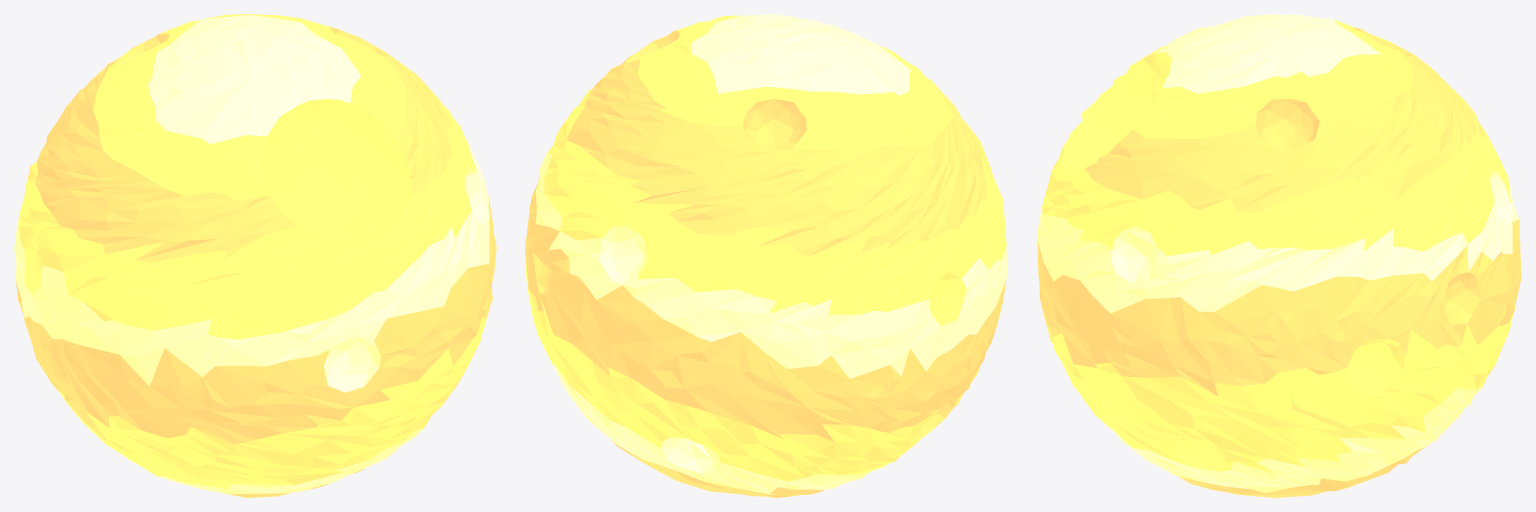
The model's file is sun.glb.
3 views of the same model, side by side, from view 1: azimuth 30°, elevation 25°; view 2: azimuth 150°, elevation 25°; view 3: azimuth 270°, elevation 25° (orthographic).
Parts seen in each view (by area): view 1: Planet_27; view 2: Planet_27; view 3: Planet_27.
Boxes of the visible parts, x1,y1,x2,y2 form: Planet_27: (14,14,496,497); Planet_27: (525,14,1007,497); Planet_27: (1036,14,1521,497).
Size of the model in its own units: 20.04 by 20.12 by 20.11.
1 material, 1 textured.
